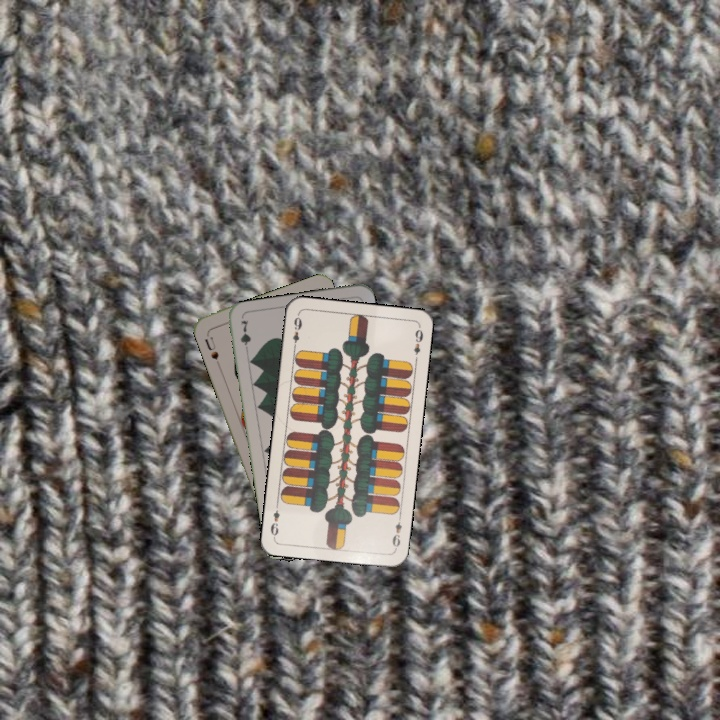E9: (388, 512, 404, 552), (289, 311, 304, 352)
G7: (236, 316, 254, 357)
SU: (201, 329, 223, 368)
